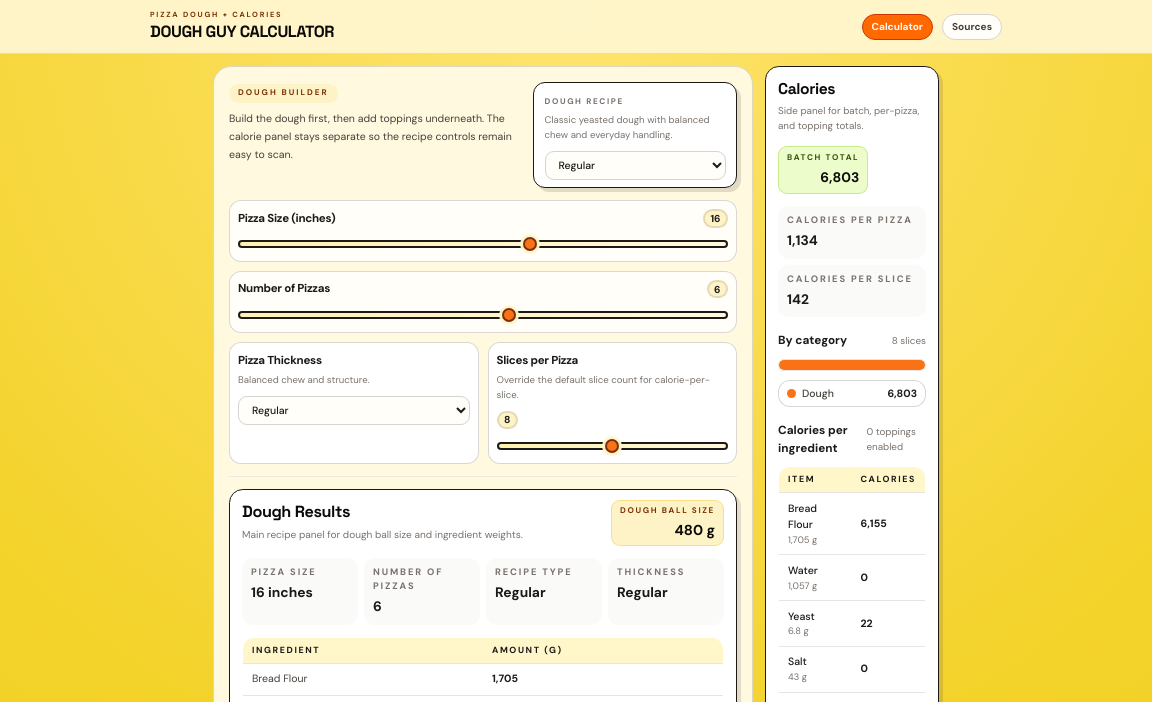
Test case: App › scales topping serving sizes with pizza size
Set the slider labelled "Pizza Size (inches)" to "10" at (246, 244), box [238,240,728,248]
(page scrolled)
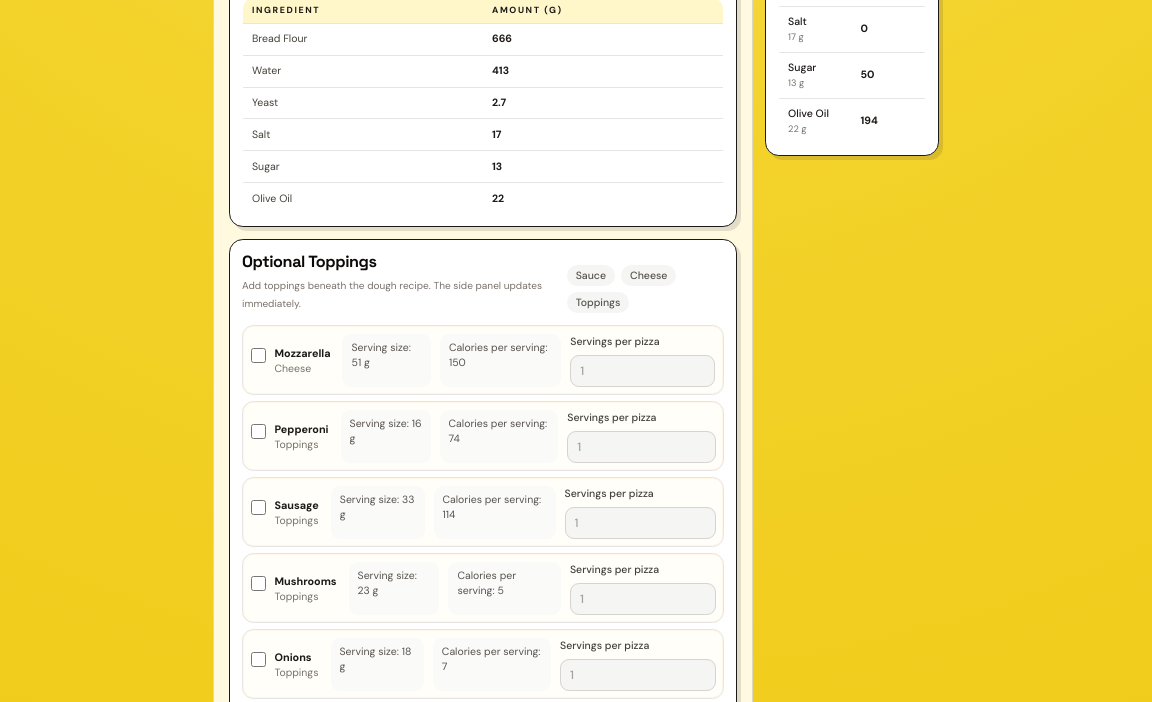
Now the text "Serving size: 51 g" is shown, box [342,334,431,387]
